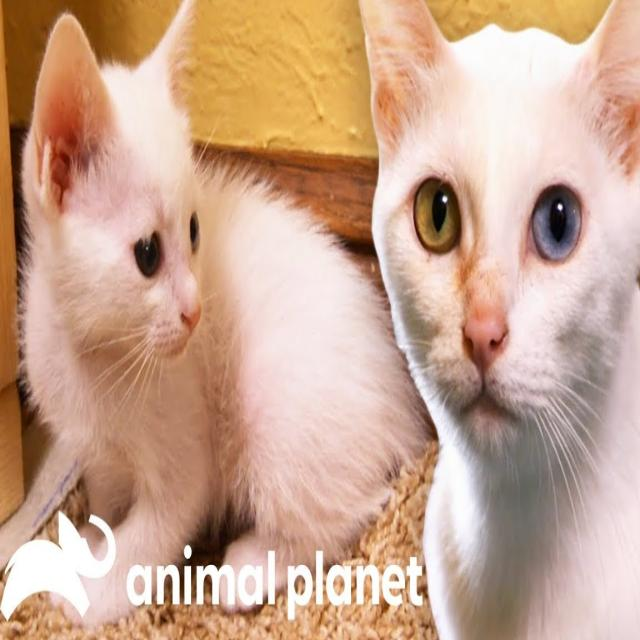Khao Manee: (12, 0, 423, 616), (349, 0, 640, 640)
